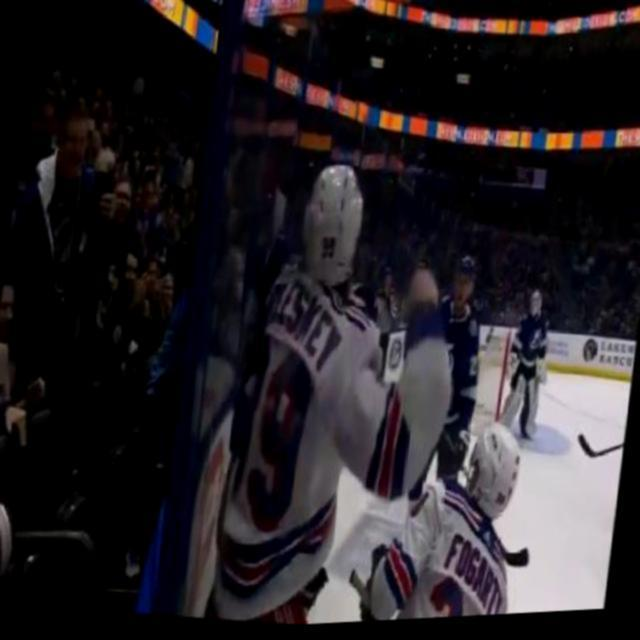fight: (194, 145, 477, 632)
